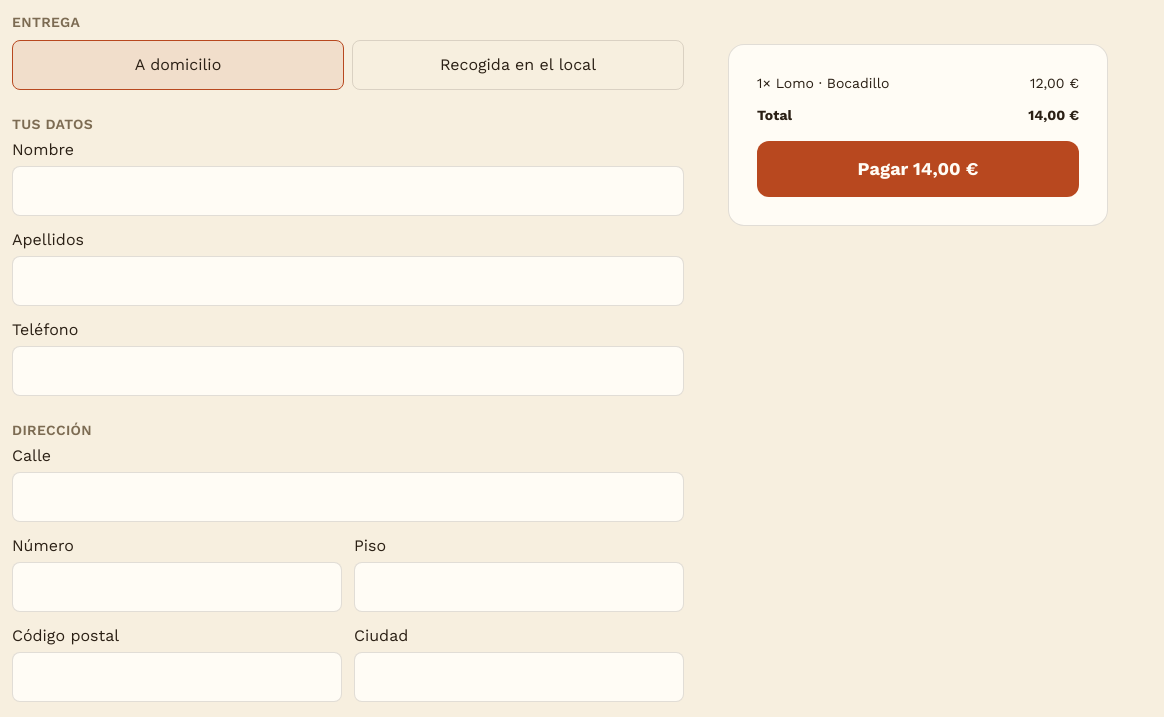
Test: FormularioCheckout › oculta los campos de dirección en recogida
Click the button "Recogida en el local": (518, 65) [352,40,684,90]
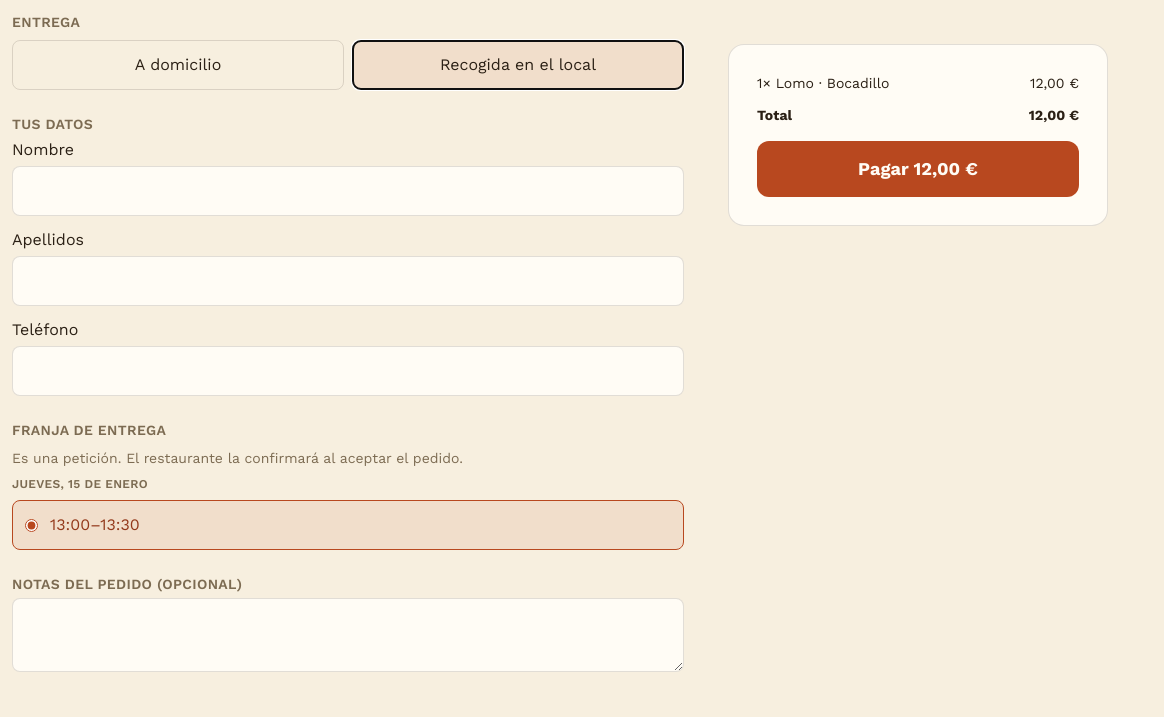
Expected: the text labelled "Calle" is gone
